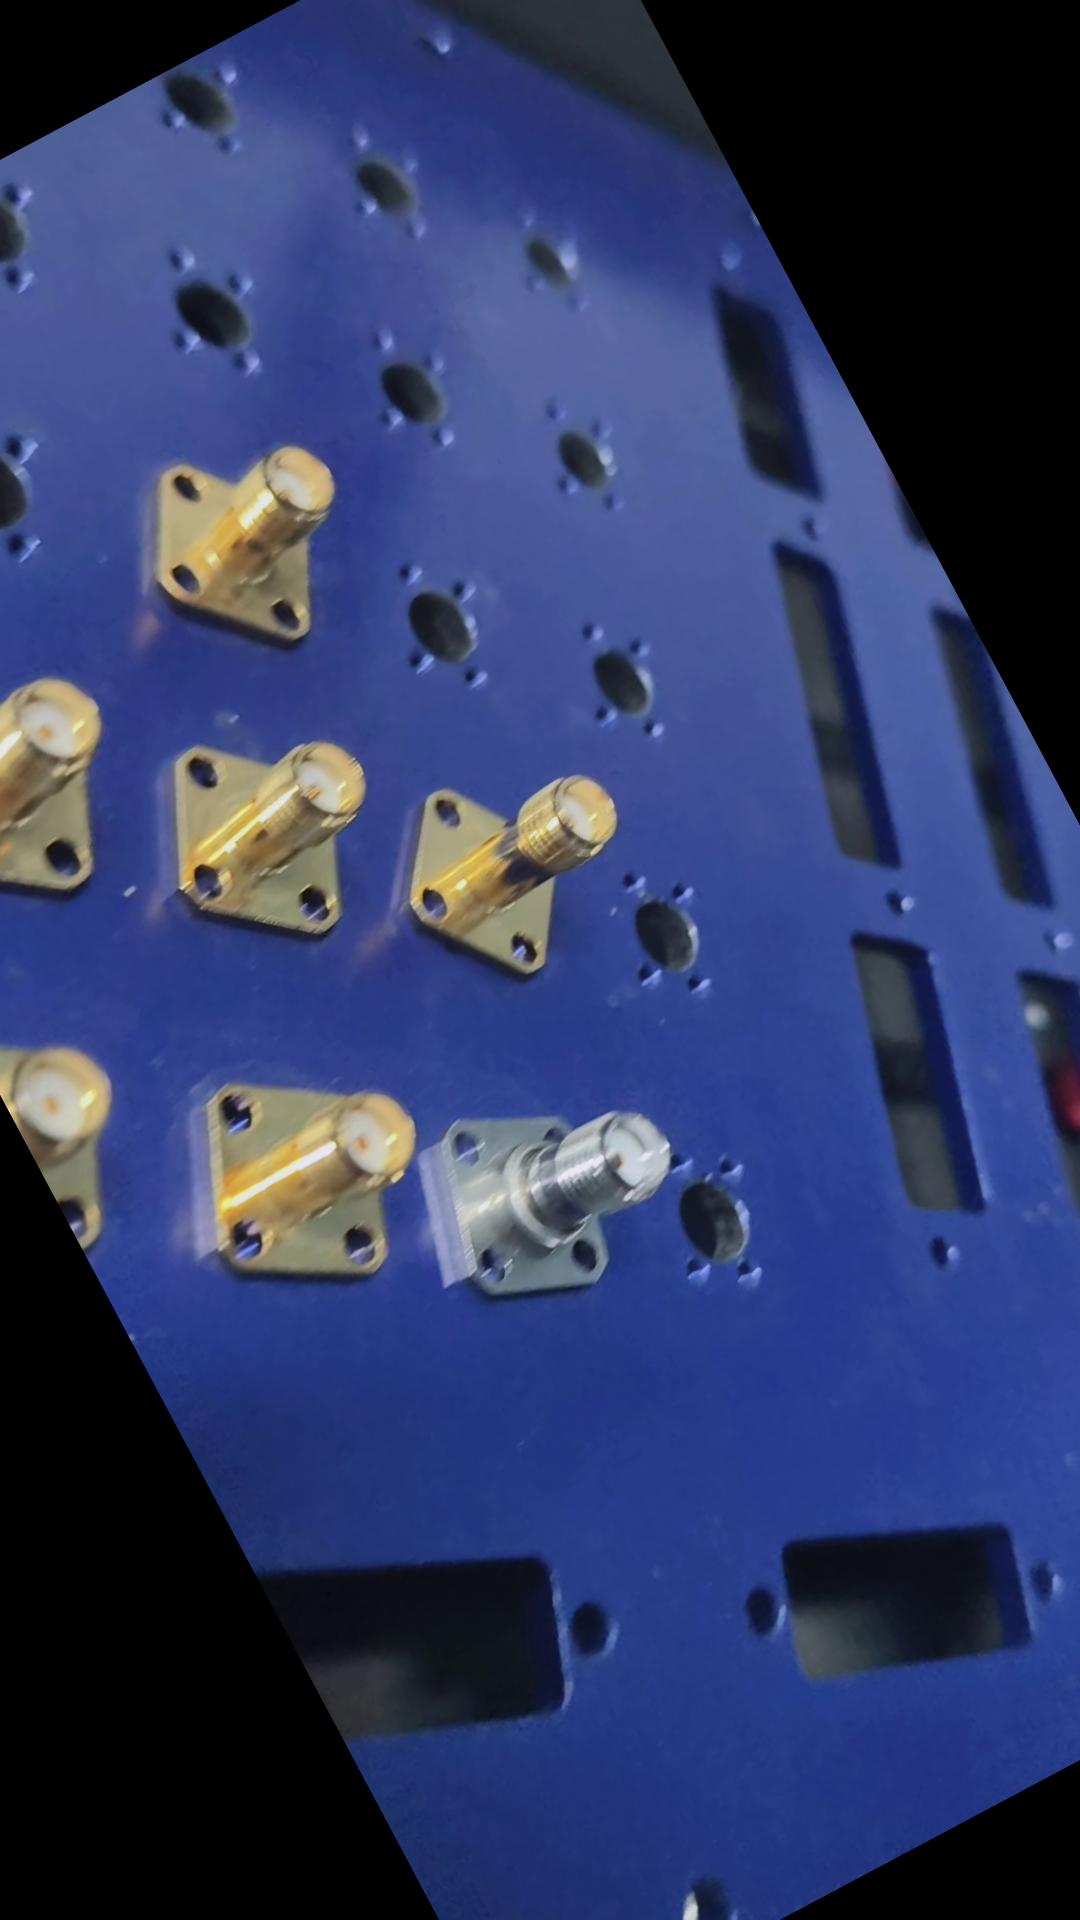SMA: (377, 1011, 713, 1341), (157, 1007, 483, 1342), (355, 688, 667, 1011), (100, 378, 400, 688), (127, 678, 425, 982)
